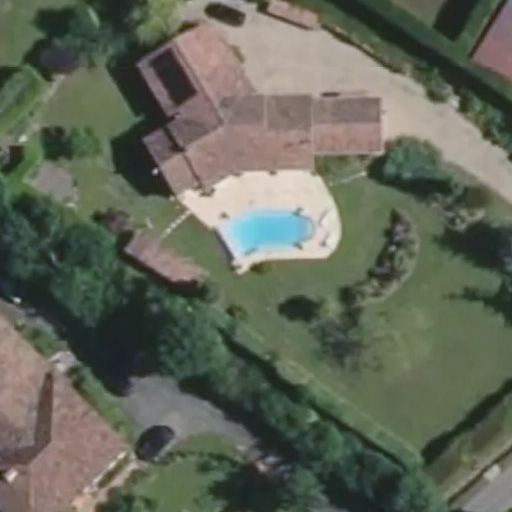pool: (204, 219, 309, 258)
